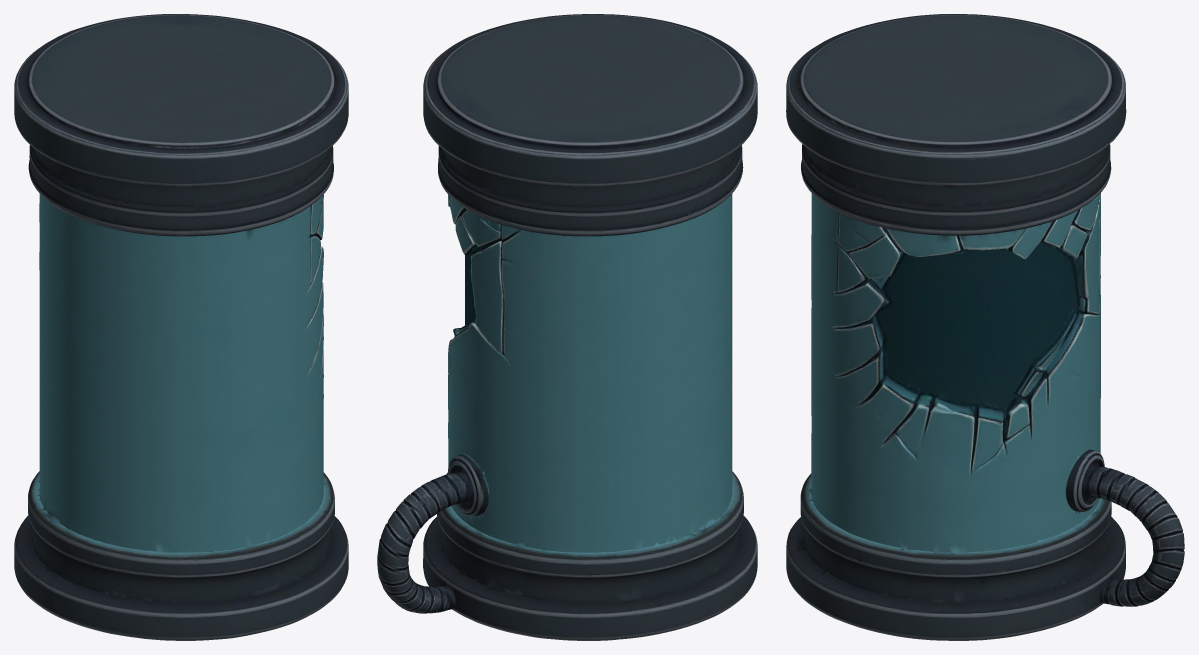
The model's file is testpod.glb.
The picture shows the model from 3 angles, left to right: view 1: azimuth 30°, elevation 25°; view 2: azimuth 150°, elevation 25°; view 3: azimuth 270°, elevation 25°; orthographic projection.
Parts seen in each view (by area): view 1: tripo_node_e93d04cd-eecc-481f-a7c9-f90db1250ec5; view 2: tripo_node_e93d04cd-eecc-481f-a7c9-f90db1250ec5; view 3: tripo_node_e93d04cd-eecc-481f-a7c9-f90db1250ec5.
Part boxes in pixels (x1,y1,x2,y2): tripo_node_e93d04cd-eecc-481f-a7c9-f90db1250ec5: (14, 14, 348, 640); tripo_node_e93d04cd-eecc-481f-a7c9-f90db1250ec5: (377, 14, 757, 640); tripo_node_e93d04cd-eecc-481f-a7c9-f90db1250ec5: (786, 14, 1184, 640).
Size of the model in its own units: 0.614 by 1 by 0.7297.
1 material, 1 textured.
